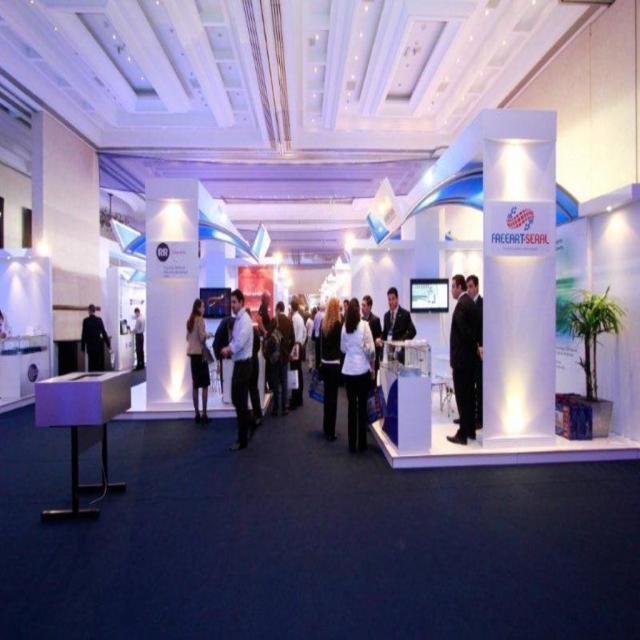desk: (25, 353, 141, 513)
person: (215, 288, 257, 454), (446, 274, 484, 446), (338, 300, 376, 454), (316, 298, 344, 443), (185, 297, 212, 427), (263, 300, 291, 418), (80, 302, 112, 372), (382, 288, 416, 344), (132, 308, 146, 370)
tv: (410, 280, 449, 312)
